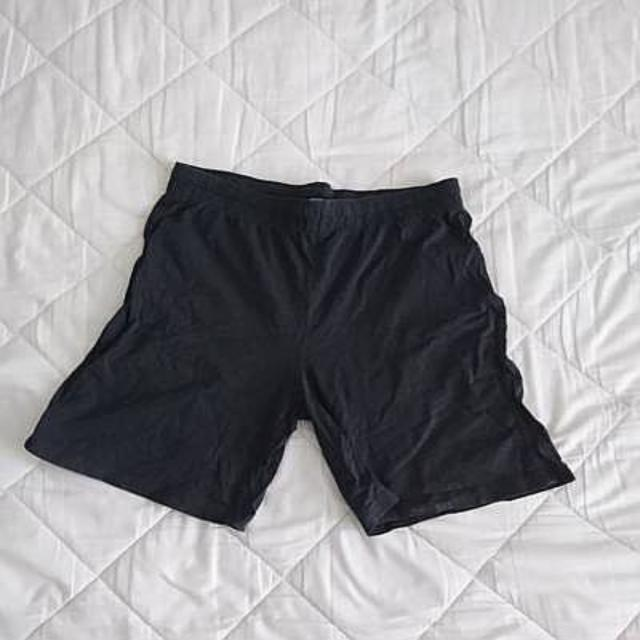SHORT: (12, 138, 609, 539)
